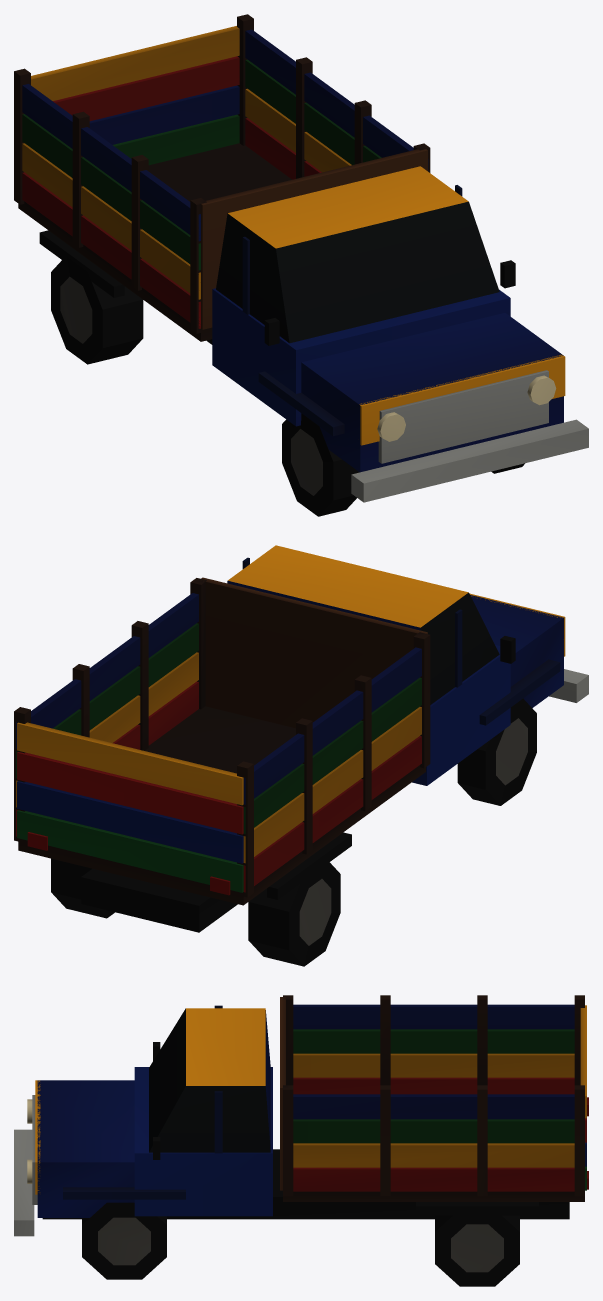
File: fm_lorry_lod1.glb
3 views of the same model, one above another, from view 1: azimuth 30°, elevation 25°; view 2: azimuth 150°, elevation 25°; view 3: azimuth 270°, elevation 25° (orthographic). The views are drawn at different scales.
Visible parts, largest first — view 1: fm_lorry_lod1; view 2: fm_lorry_lod1; view 3: fm_lorry_lod1.
Boxes of the visible parts, left/top/right/bottom form: fm_lorry_lod1: left=14, top=14, right=588, bottom=516; fm_lorry_lod1: left=14, top=545, right=588, bottom=966; fm_lorry_lod1: left=14, top=995, right=588, bottom=1286.
Size of the model in its own units: 2.3 by 2.12 by 5.62.
